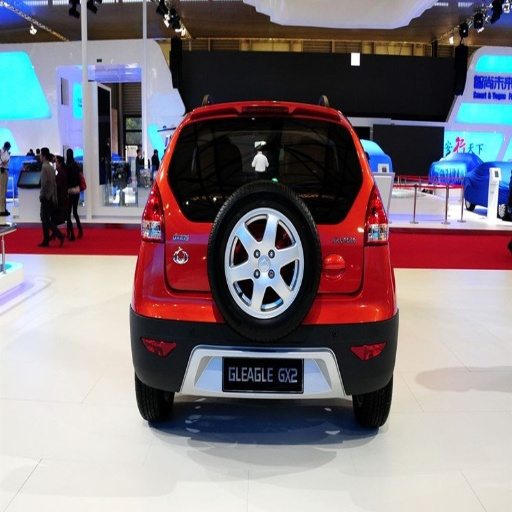back_bumper: (129, 243, 251, 398), (313, 227, 398, 352)
trunk: (143, 181, 220, 297), (305, 182, 365, 288)
